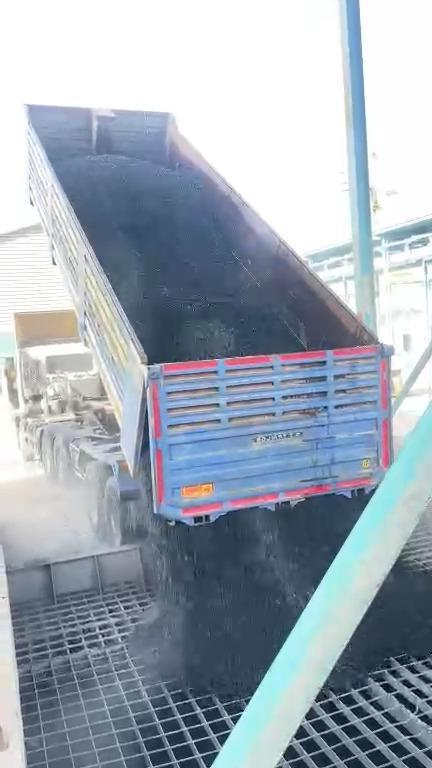gravel: (58, 156, 303, 362), (130, 498, 363, 694), (329, 561, 431, 688)
